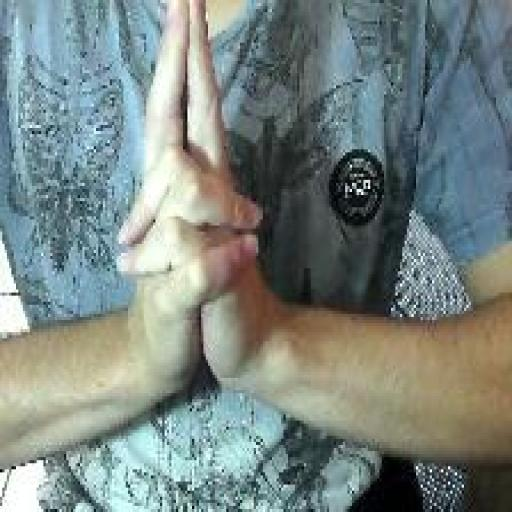Tora -tiger-: (112, 0, 267, 396)
